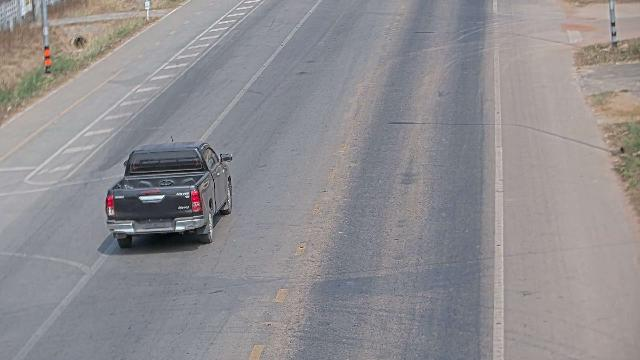pickup-truck: (104, 136, 234, 248)
